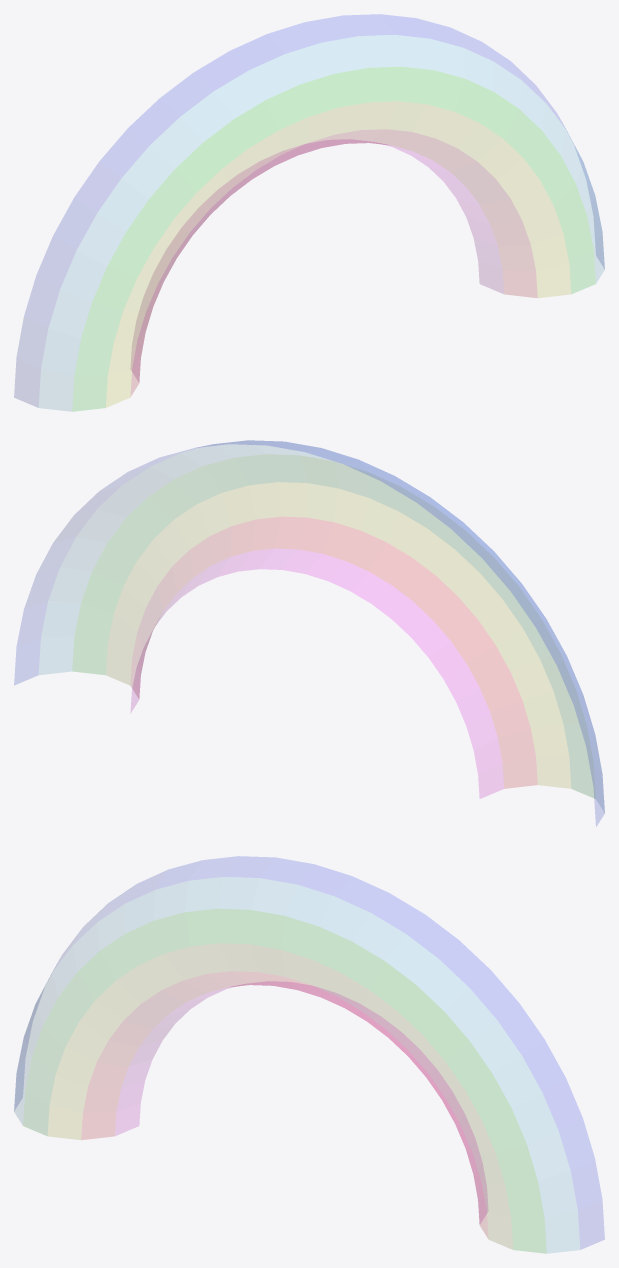
The model's file is rainbow.glb.
3 views of the same model, one above another, from view 1: azimuth 30°, elevation 25°; view 2: azimuth 150°, elevation 25°; view 3: azimuth 330°, elevation 25° (orthographic).
Parts seen in each view (by area): view 1: トーラス.002; view 2: トーラス.002; view 3: トーラス.002.
Part boxes in pixels (x1=…): トーラス.002: x1=14, y1=14, x2=604, y2=411; トーラス.002: x1=14, y1=440, x2=604, y2=826; トーラス.002: x1=14, y1=856, x2=604, y2=1253.
Bounding box in the file's own units: 13.08 × 6.54 × 1.31.
